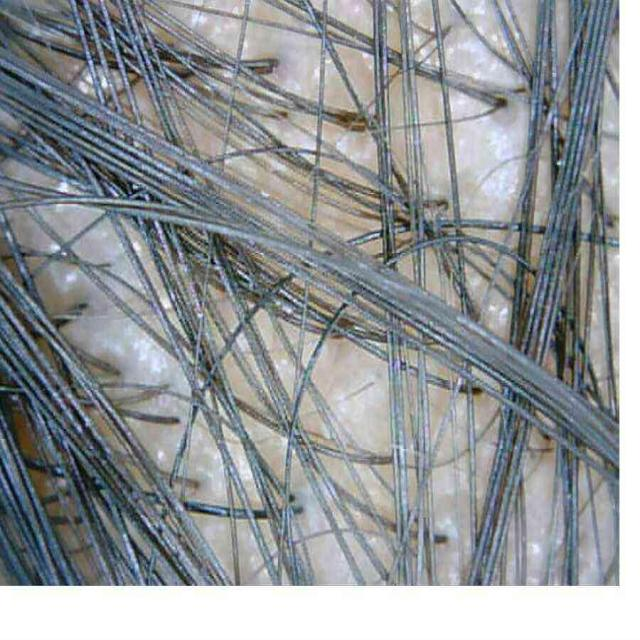ds: (460, 100, 528, 220), (244, 17, 308, 92), (449, 33, 525, 89), (120, 325, 171, 381), (186, 408, 216, 480), (80, 317, 121, 357), (45, 261, 79, 294)
